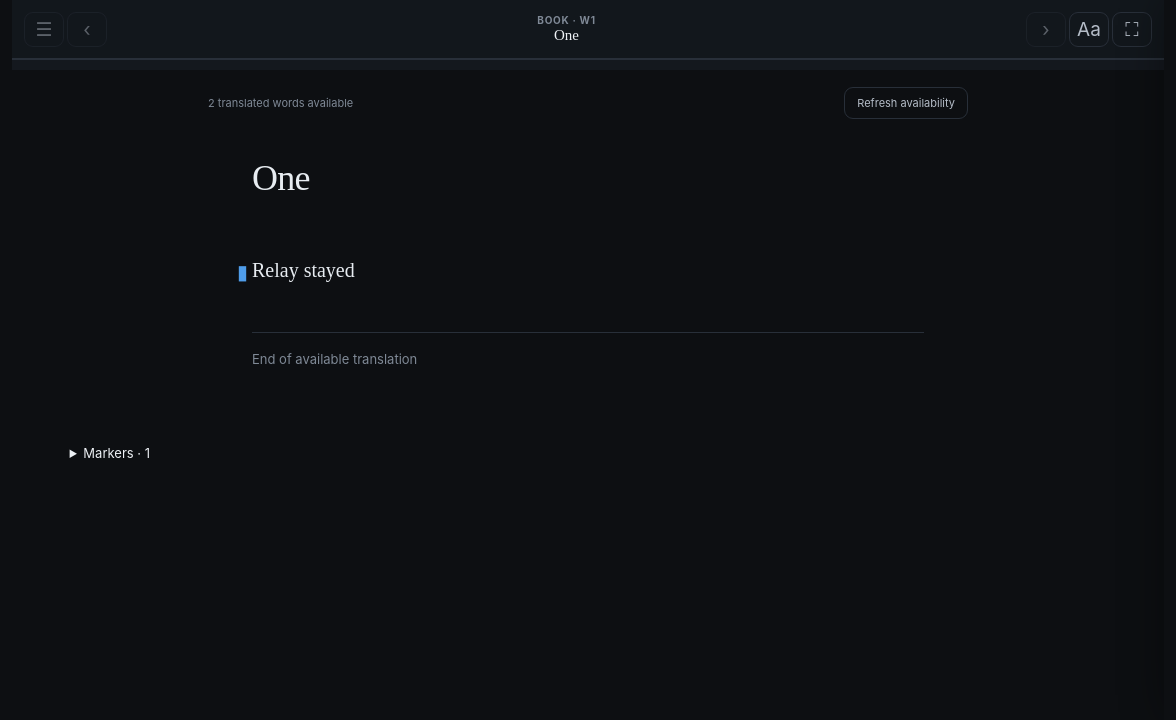
Test case: closes settings outside and removes the marker panel and gutter before DELETE resolves
expect the text "Relay stayed" is shown: met, box [252,259,355,281]
expect the button with class "reader-gutter-marker" is shown: met, box [235,253,250,291]
Click the button with aria-label "Reader settings": (1089, 29) [1069,12,1109,46]
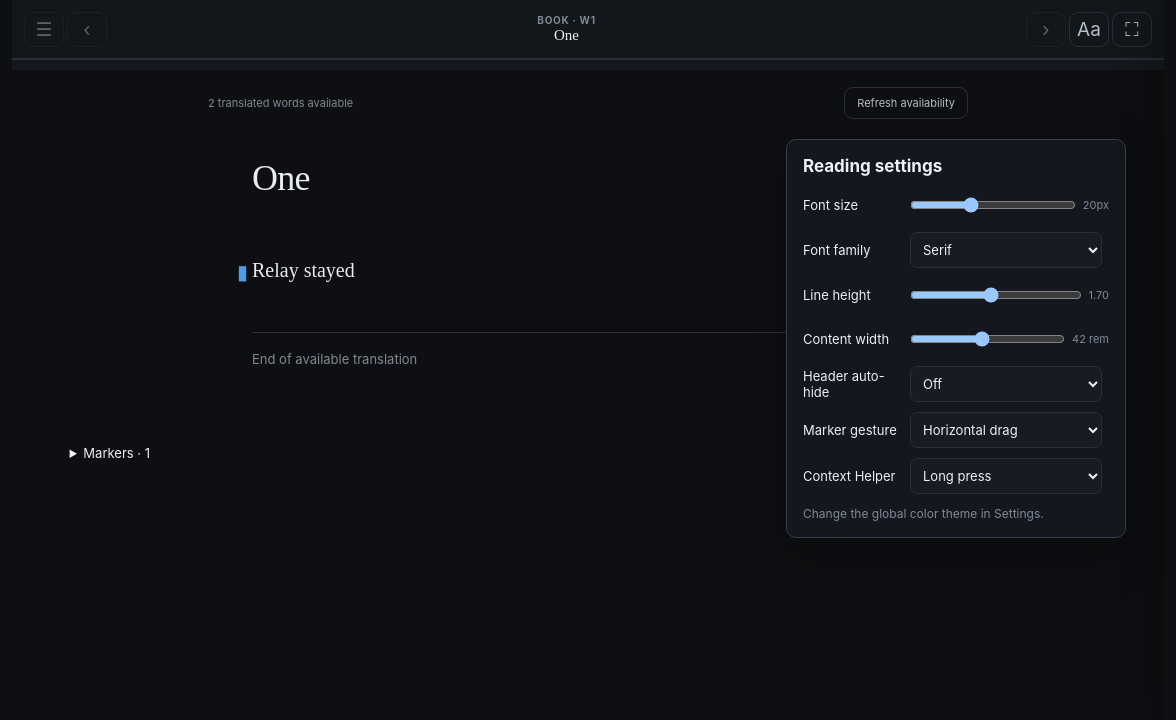
expect the element with class "reader-settings" is shown: met, box [786,139,1126,538]
Press the mouse on the element that starts with "Book": (588, 360) [12,0,1164,719]
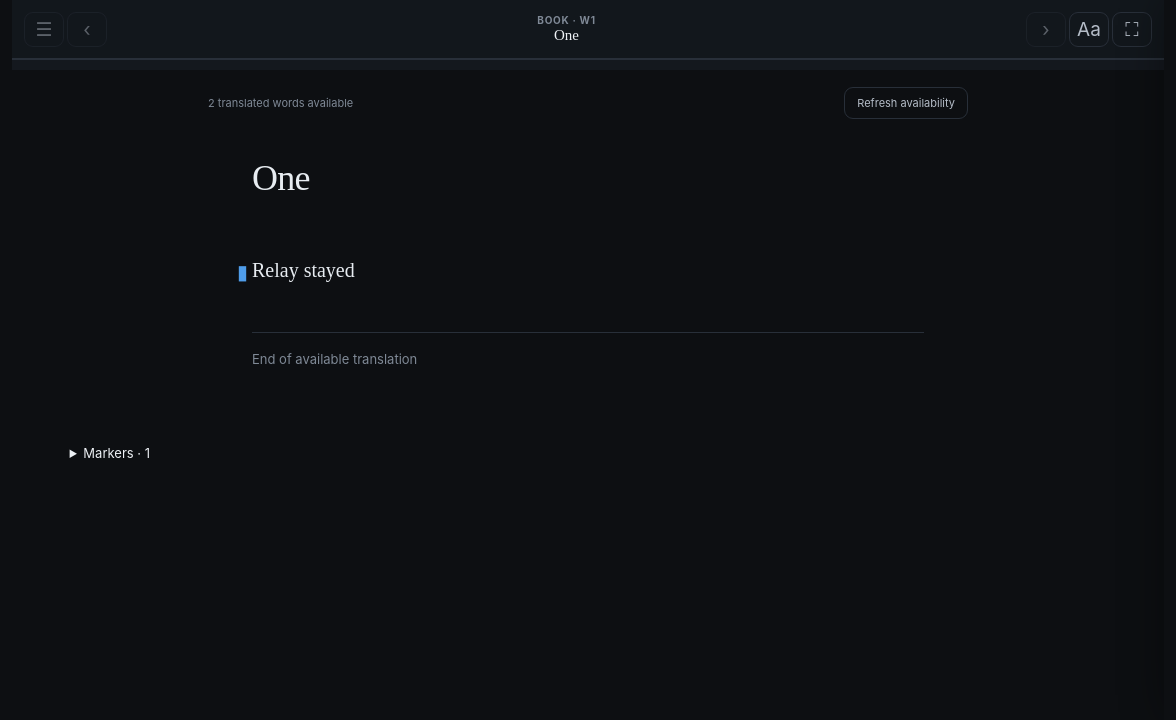
expect the element with class "reader-settings" is gone: met
Click the button named "Markers in b1": (242, 272) [235,253,250,291]
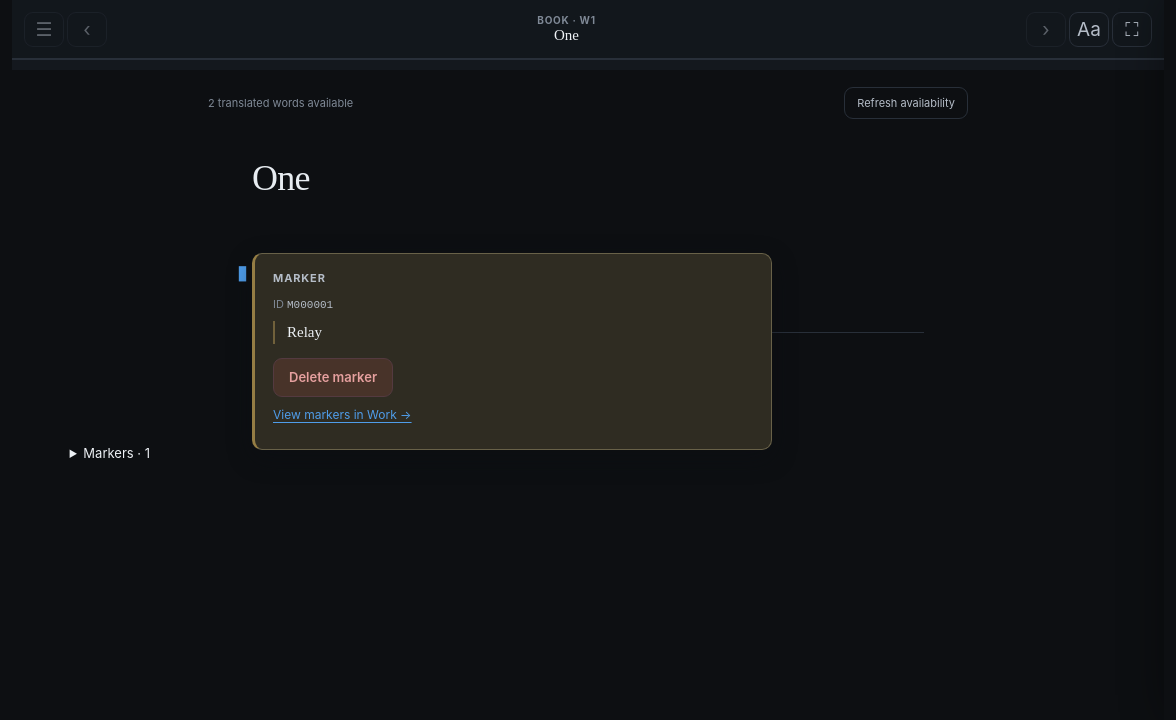
expect the text "M000001" is shown: met, box [287,299,333,311]
expect the button with class "reader-delete-marker" is shown: met, box [273,358,393,397]
Click the heading "Markers · 1": (117, 453) [83,445,150,461]
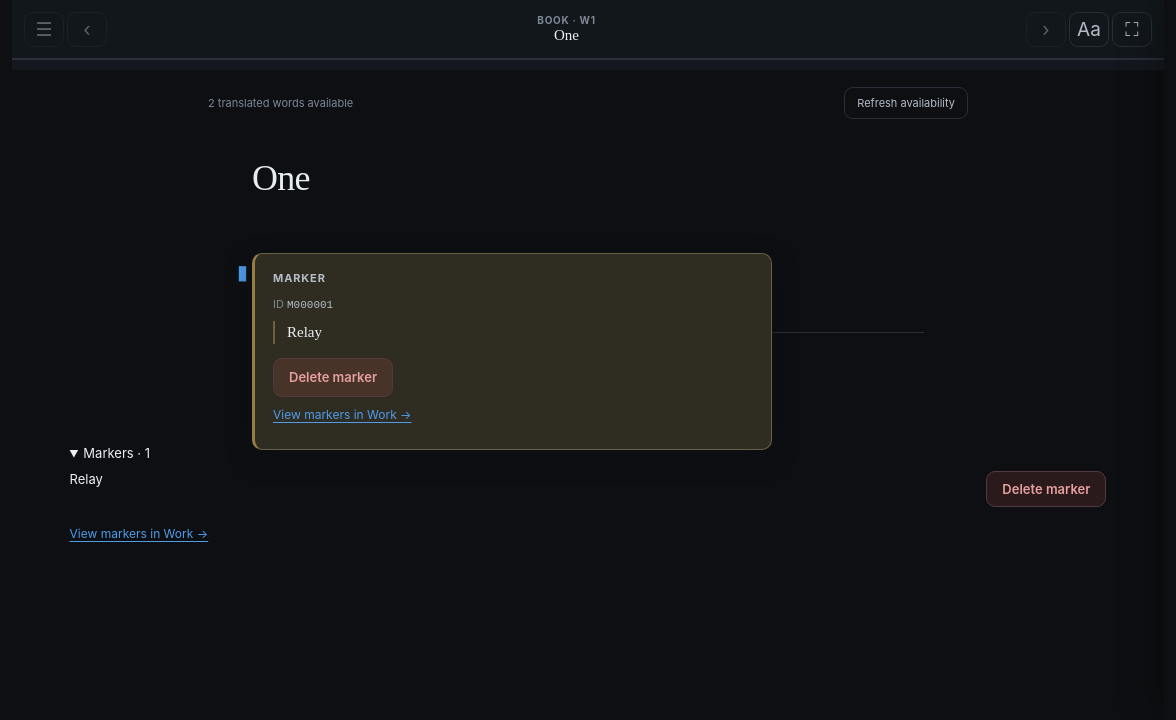
Click the button with class "reader-delete-marker" below "ID": (333, 378) [273,358,393,397]
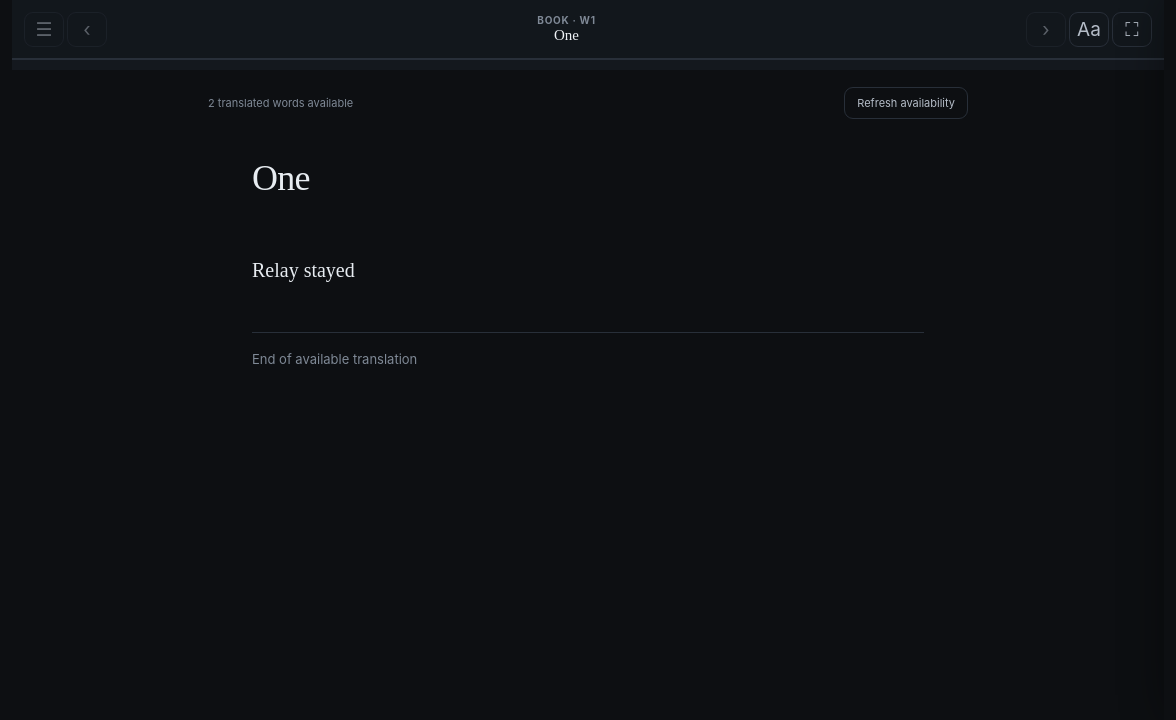
expect the button with class "reader-gutter-marker" is gone: met
expect the element with class "reader-marker-popover" is gone: met
